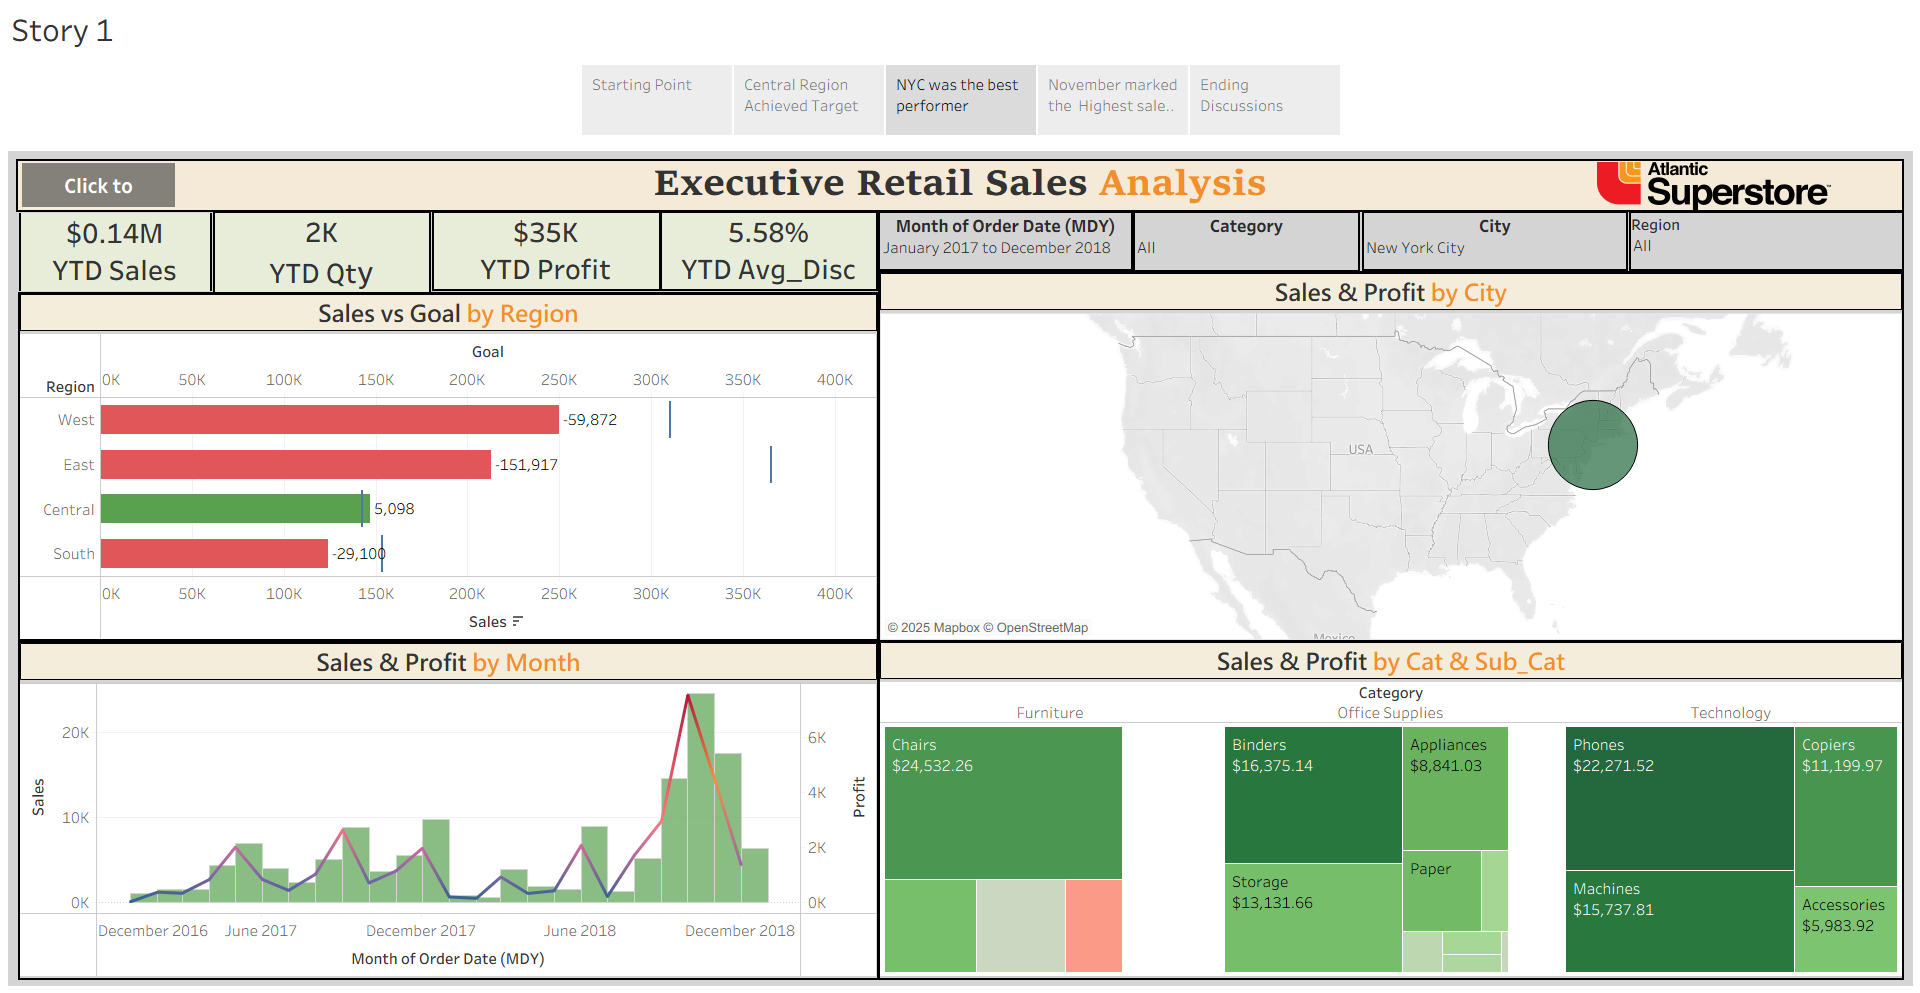

The dashboard page shown, as its layout file describes it:
{"tool":"tableau","page":{"name":"Dashboard 1","canvas":[1000,1000],"units":"permille","ordinal":0},"visuals":[{"type":"title","box":[4.8,10,990.3,63.6]},{"type":"image","param":"Image/atlantic-superstore-2017.svg","box":[834.6,13.7,158.7,59.9]},{"type":"dashboard-object","box":[7.2,15,80.3,52.4]},{"type":"worksheet","title":"Quantity","mark":"Automatic","box":[105,69.9,122.5,116.1]},{"type":"worksheet","title":"Profit","mark":"Automatic","box":[226.3,69.9,97.2,119.9]},{"type":"worksheet","title":"Discount","mark":"Automatic","box":[322.3,69.9,135.2,216]},{"type":"worksheet","title":"Sales","mark":"Automatic","box":[4.2,72.4,102.6,99.9]},{"type":"filter","title":"Time_Series","param":"[federated.0xhq3lh1d73h9h12l06ax1aoxa5d].[tmn:Order Date (MDY):qk]","box":[456.9,72.4,134,71.2]},{"type":"filter","title":"Tree_Map","param":"[federated.0xhq3lh1d73h9h12l06ax1aoxa5d].[none:Category:nk]","box":[590.8,72.4,119.5,72.4]},{"type":"filter","title":"City_Wise","param":"[federated.0xhq3lh1d73h9h12l06ax1aoxa5d].[none:City:nk]","box":[710.9,72.4,140,71.2]},{"type":"filter","title":"Region_Wise","param":"[federated.0xhq3lh1d73h9h12l06ax1aoxa5d].[none:Region:nk]","box":[851.5,72.4,144.2,71.2]},{"type":"worksheet","title":"City_Wise","mark":"Automatic","box":[457.1,143.6,538.7,444.4]},{"type":"worksheet","title":"Region_Wise","mark":"Automatic","rows":["Region"],"cols":["Sales","Goal"],"box":[5.5,168.5,452.1,419.5]},{"type":"worksheet","title":"Tree_Map","mark":"Automatic","cols":["Category"],"box":[457.1,586.8,538.7,407]},{"type":"worksheet","title":"Time_Series","mark":"Automatic","rows":["Sales","Profit"],"cols":["Order Date (MDY)"],"box":[5.4,588,452.3,405.7]}]}

Visuals, with their boxes on the dashboard's canvas, which has no fixed pixel size, in thousandths of its width and height (x1, y1, x2, y2). These are canvas units, not pixel positions in the 1920x993 screenshot, which may show the page scaled, cropped or inside an application window:
title: crop(5, 10, 995, 74)
image: crop(835, 14, 993, 74)
dashboard-object: crop(7, 15, 88, 67)
"Quantity" worksheet: crop(105, 70, 228, 186)
"Profit" worksheet: crop(226, 70, 324, 190)
"Discount" worksheet: crop(322, 70, 458, 286)
"Sales" worksheet: crop(4, 72, 107, 172)
"Time_Series" filter: crop(457, 72, 591, 144)
"Tree_Map" filter: crop(591, 72, 710, 145)
"City_Wise" filter: crop(711, 72, 851, 144)
"Region_Wise" filter: crop(852, 72, 996, 144)
"City_Wise" worksheet: crop(457, 144, 996, 588)
"Region_Wise" worksheet: crop(6, 168, 458, 588)
"Tree_Map" worksheet: crop(457, 587, 996, 994)
"Time_Series" worksheet: crop(5, 588, 458, 994)
